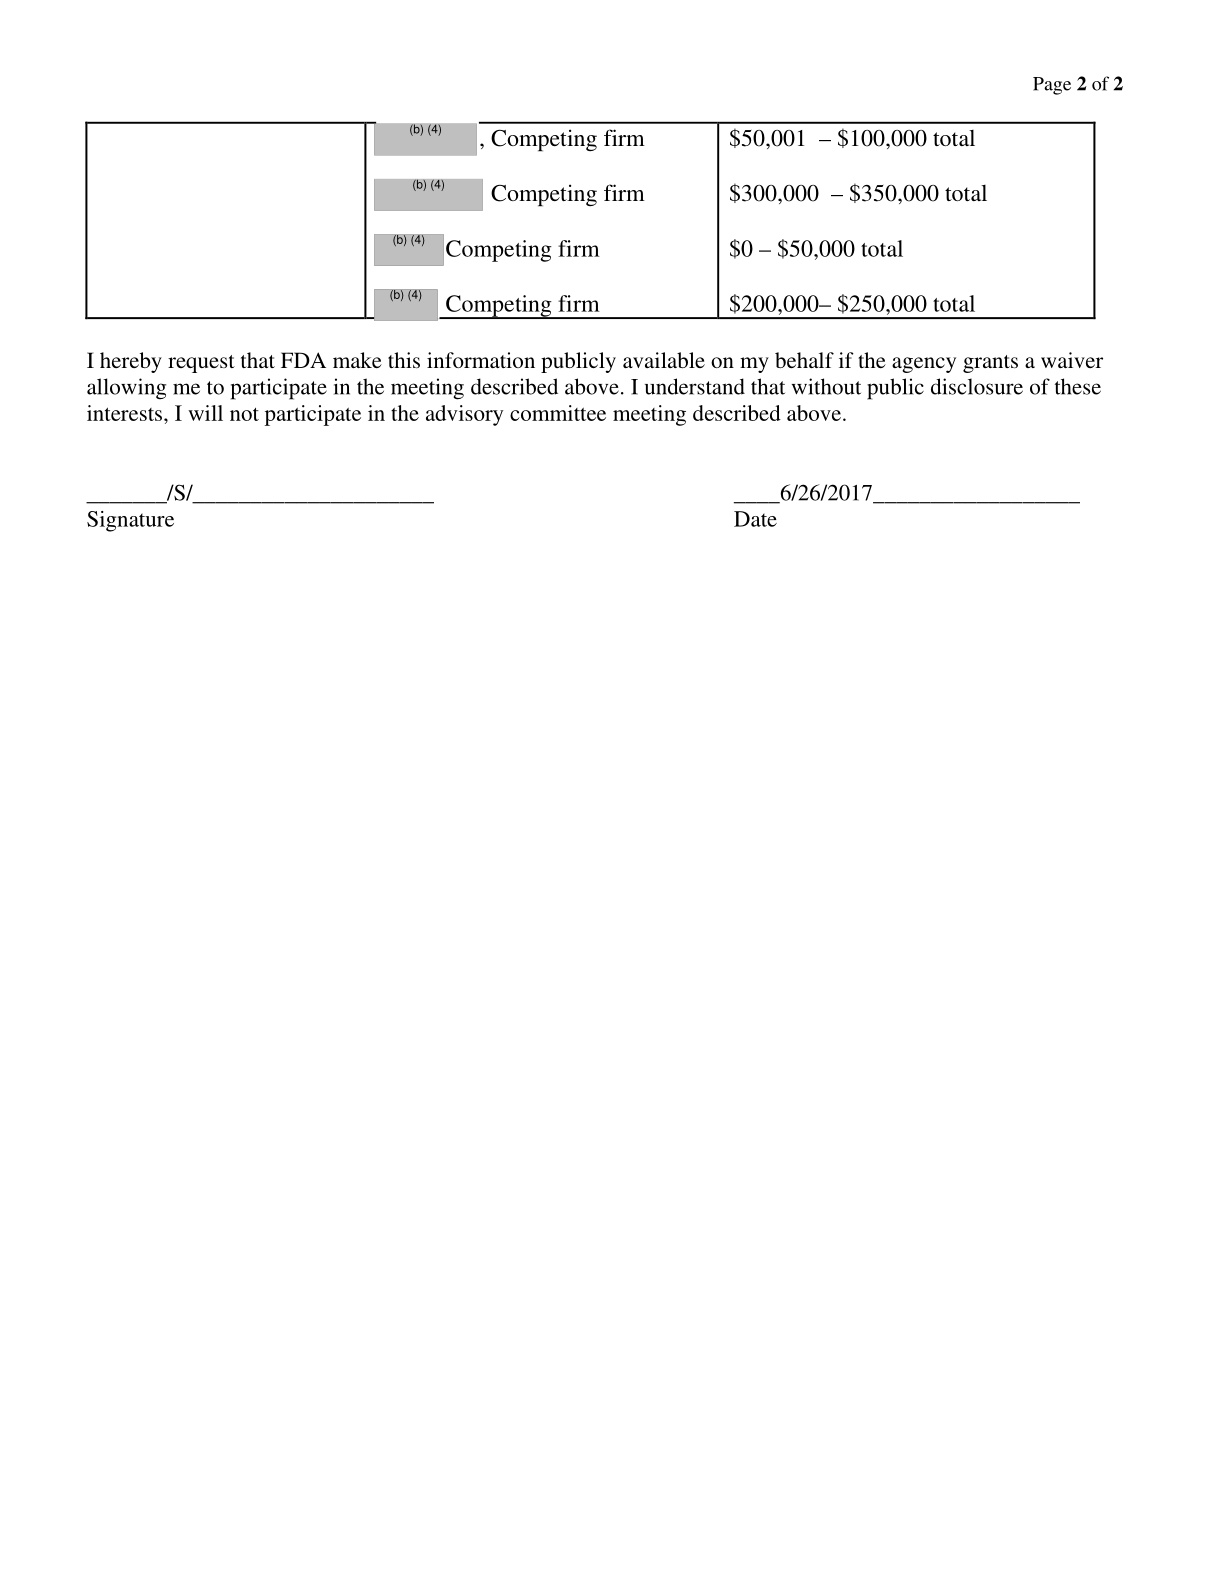partial_lined: (84, 120, 1097, 321)
